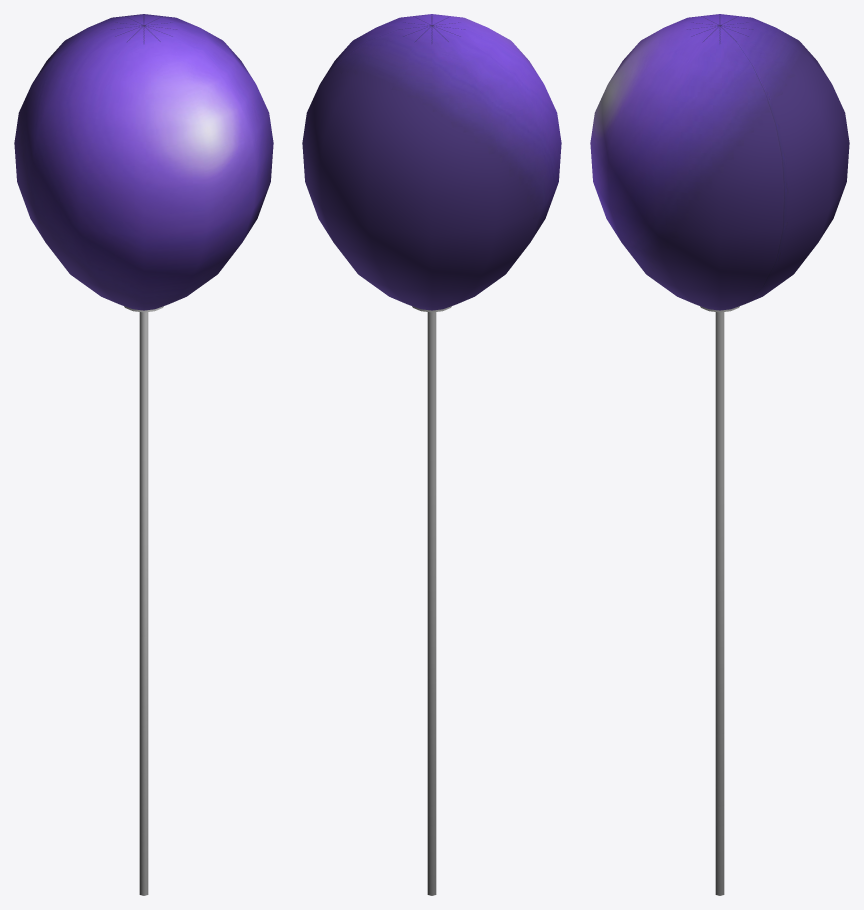
File: balon ungu.fbx
The picture shows the model from 3 angles, left to right: view 1: azimuth 30°, elevation 25°; view 2: azimuth 150°, elevation 25°; view 3: azimuth 270°, elevation 25°; orthographic projection.
Parts seen in each view (by area): view 1: balon3; view 2: balon3; view 3: balon3.
Part boxes in pixels (x1,y1,x2,y2): balon3: [14, 14, 273, 895]; balon3: [302, 14, 561, 895]; balon3: [590, 14, 849, 895].
Size of the model in its own units: 3.18 by 11.75 by 3.18.
Materials: 1 (1 with a texture image).
